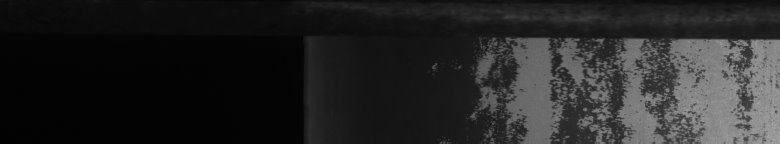kb: (496, 32, 776, 136)
